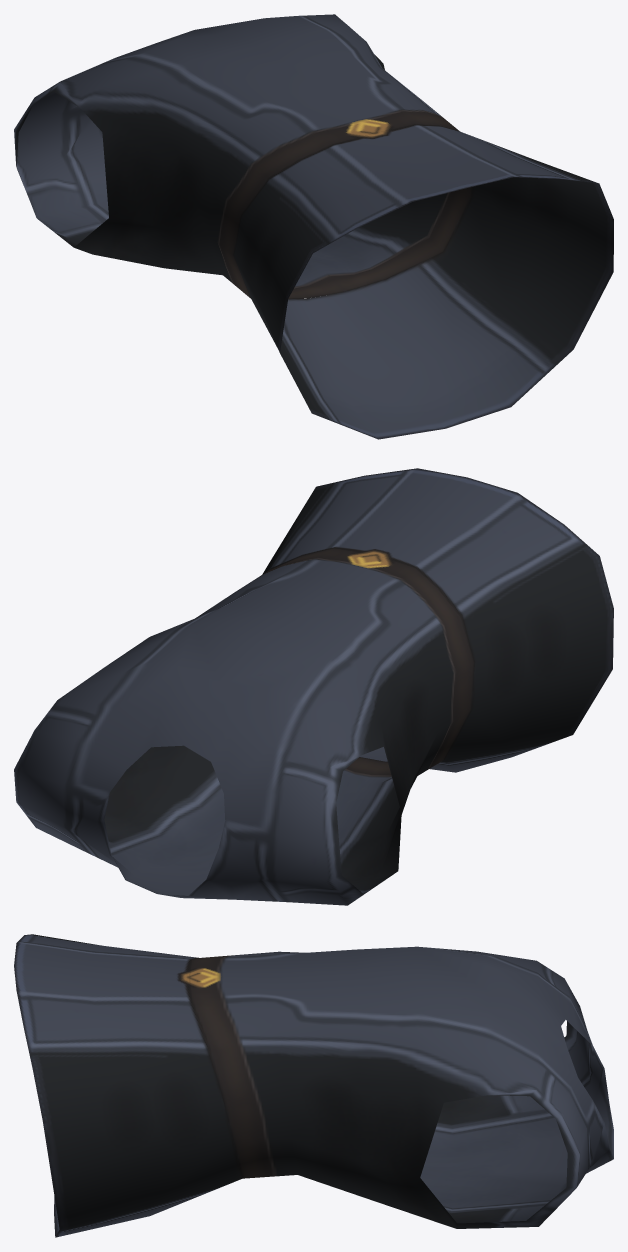
The model's file is Armour.FBX.
The picture shows the model from 3 angles, top to bottom: view 1: azimuth 30°, elevation 25°; view 2: azimuth 150°, elevation 25°; view 3: azimuth 270°, elevation 25°; orthographic projection. The views are drawn at different scales.
Visible parts, largest first — view 1: f01; view 2: f01; view 3: f01.
Part boxes in pixels (<box>): f01: <box>14,14,613,439</box>; f01: <box>14,468,613,905</box>; f01: <box>14,934,613,1237</box>.
Bounding box in the file's own units: 4422 × 3237 × 7173.
